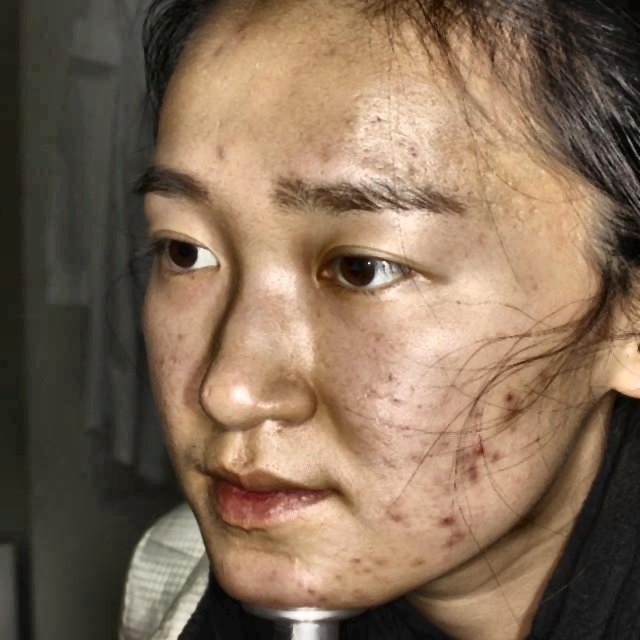pustule: (212, 138, 246, 172), (492, 387, 527, 420), (303, 580, 344, 608), (347, 550, 383, 580), (451, 462, 489, 489), (445, 529, 481, 557), (454, 441, 500, 461), (398, 553, 433, 576), (227, 18, 254, 42), (432, 510, 453, 529)
